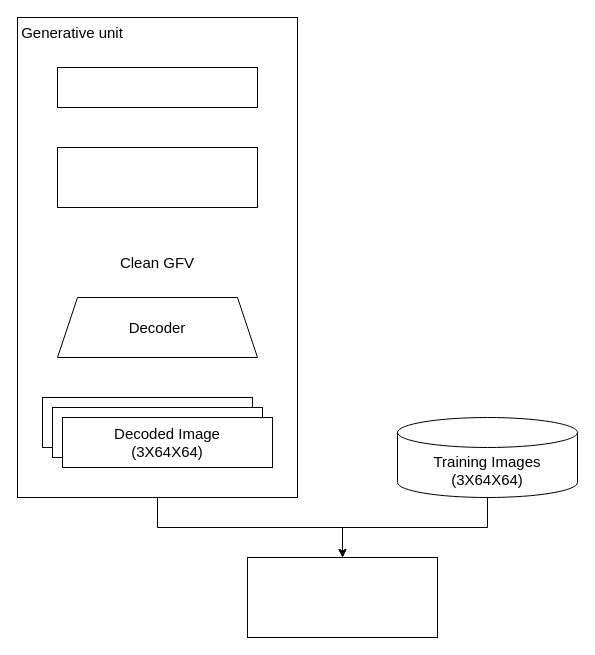
Some shapes in this 595 by 655 pixel diagram are drawn without their labels. Here are the shapes that lost their labels. From the top down, the centre of each, then its label:
At point 157,87: "Random Noise (100)".
At point 157,177: "(input 100) Generator (output 3X16X16)".
At point 342,597: "(input 3X64X64) Discriminator (output 1X1X1)".
